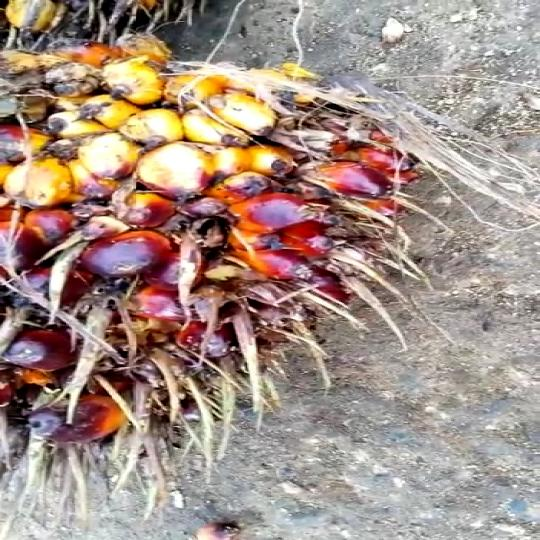masak: (0, 29, 430, 484)
